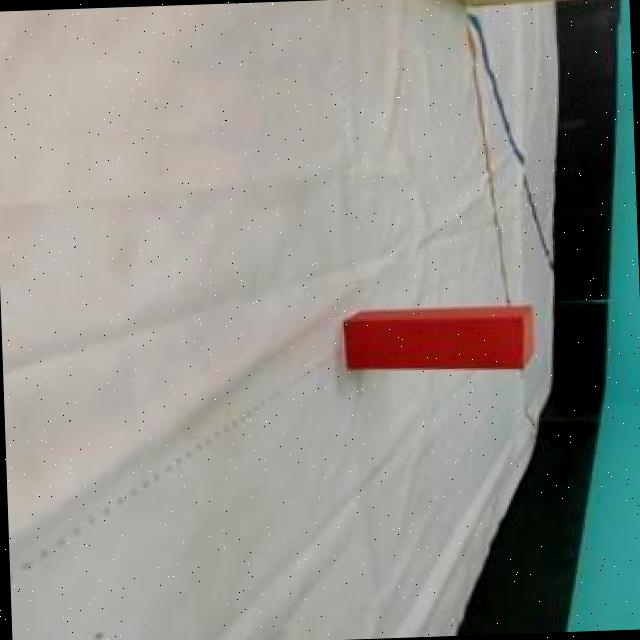redbox: (344, 309, 538, 376)
